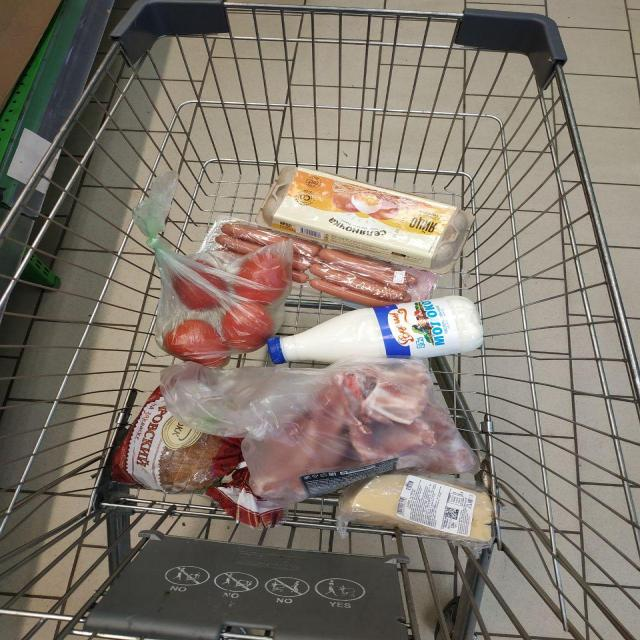cheese: (250, 261, 640, 640)
egg: (245, 111, 640, 316)
milk: (131, 178, 564, 535)
tomato: (142, 168, 405, 473), (145, 129, 430, 391), (104, 143, 331, 434), (114, 168, 316, 488), (87, 131, 258, 417)
